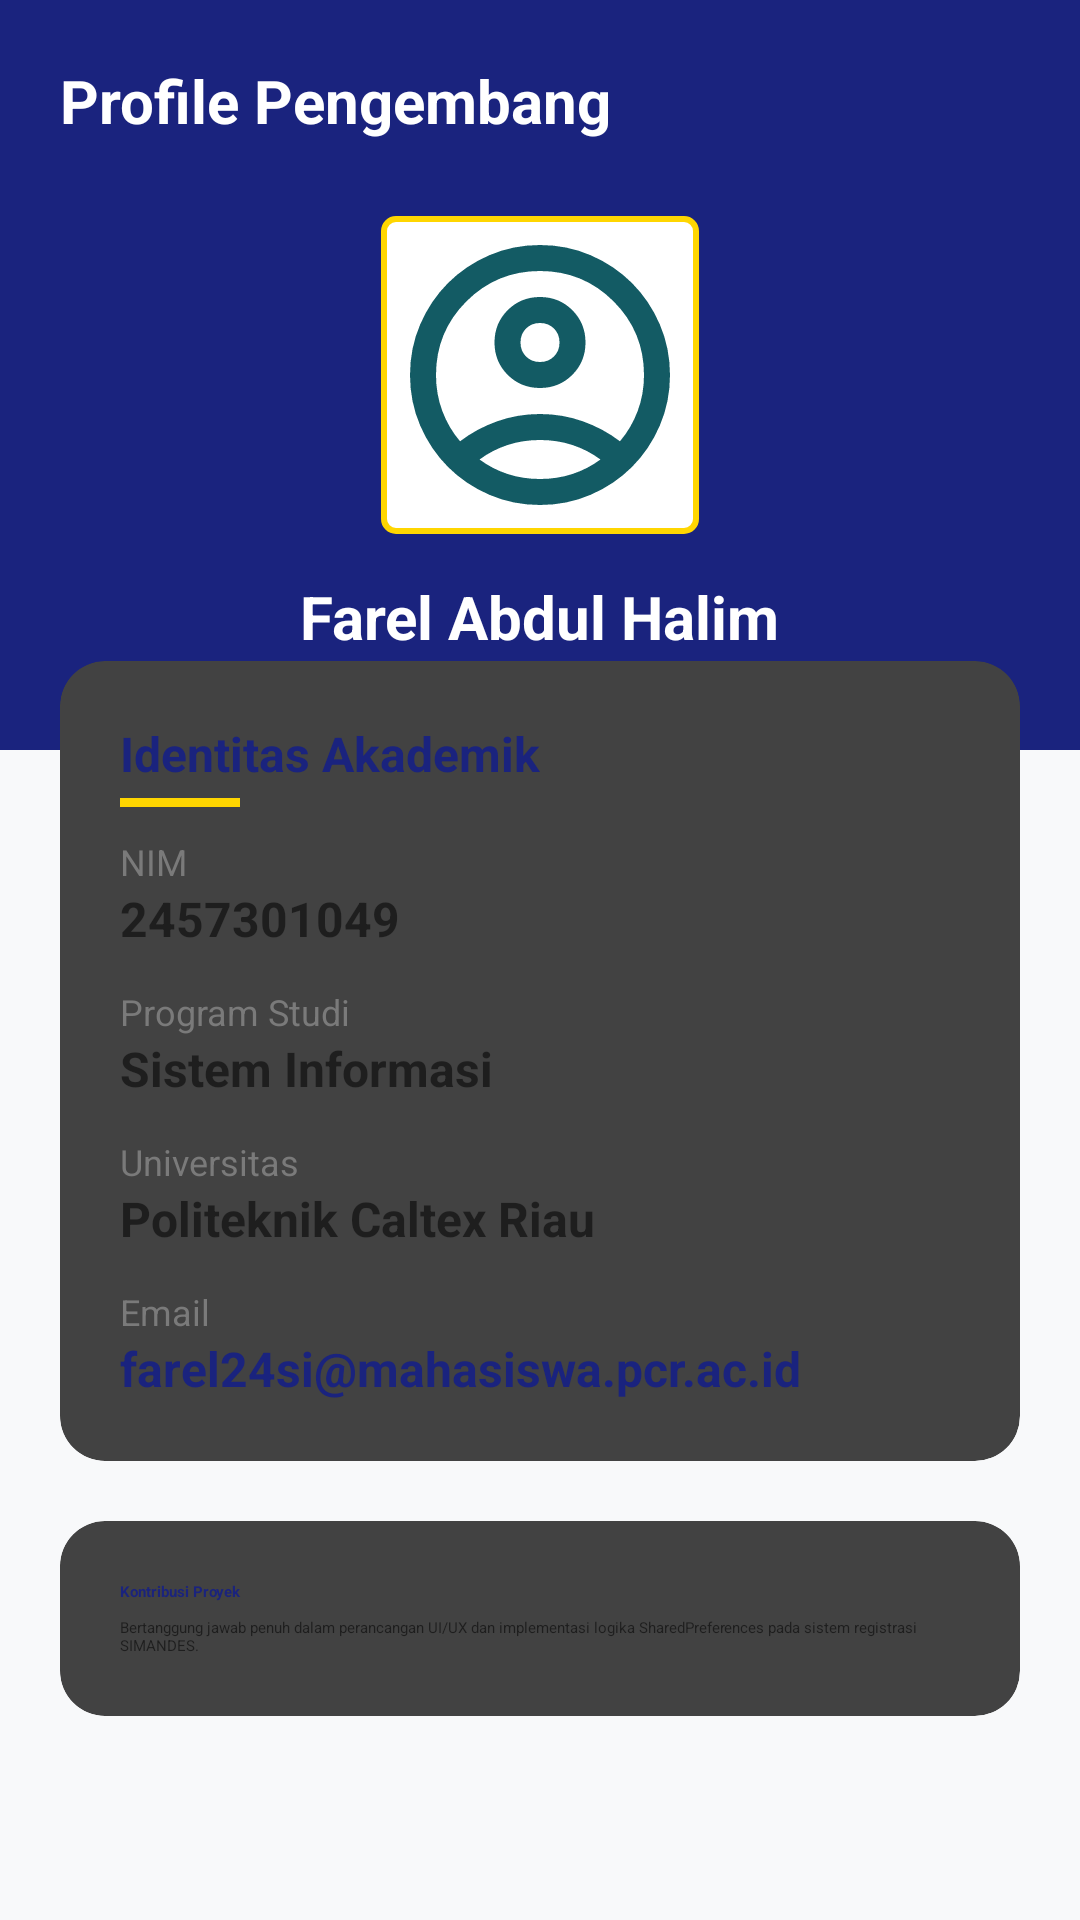

Named icons in this screenshot (1080x1920) and their centers, (x=x, y=y):
person: (x=540, y=375)
